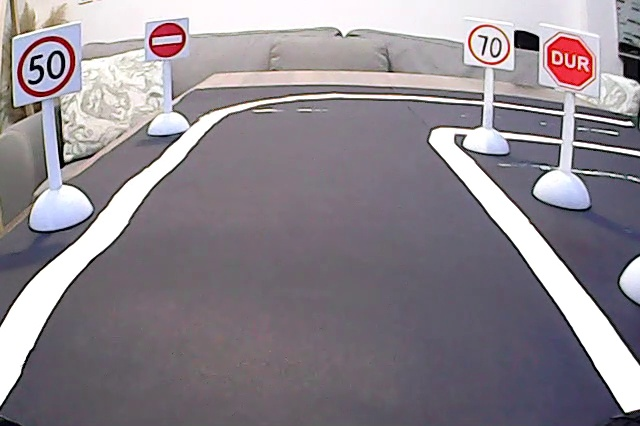do not enter: (146, 20, 189, 60)
speed limit 50: (14, 32, 76, 99)
speed limit 70: (466, 23, 512, 68)
stop sign: (542, 29, 597, 93)
